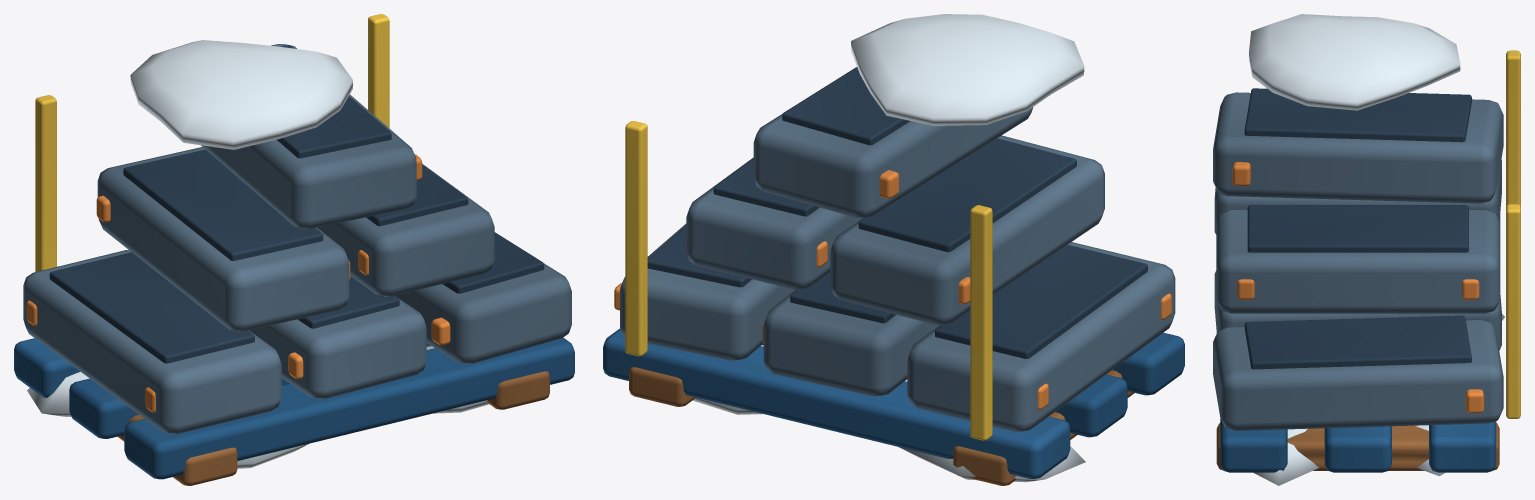
The model's file is metal_stack.glb.
3 views of the same model, side by side, from view 1: azimuth 30°, elevation 25°; view 2: azimuth 150°, elevation 25°; view 3: azimuth 270°, elevation 25° (orthographic). The views are drawn at different scales.
Parts seen in each view (by area): view 1: metal_stack; view 2: metal_stack; view 3: metal_stack.
Boxes of the visible parts, x1,y1,x2,y2 form: metal_stack: (14,14,574,485); metal_stack: (603,14,1184,485); metal_stack: (1213,14,1520,485).
Bounding box in the file's own units: 1.46 × 1.12 × 0.9322.
